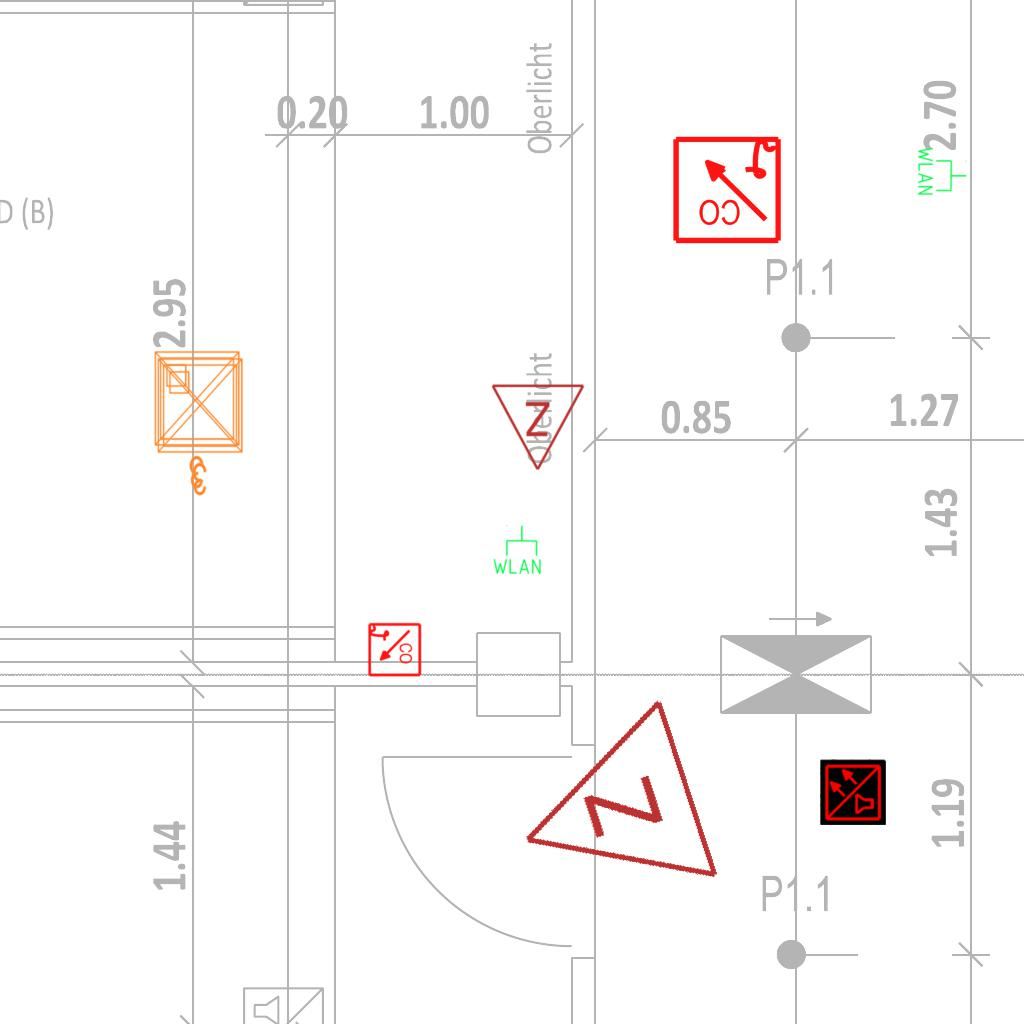Einbaudownlights_LED_Konferenzraeume: (147, 344, 251, 494), (150, 351, 254, 501)
OKW_Multisensormelder_(Kombination_optischer_Rauch-Kahlenmonoxid_Waerme-Melder): (820, 759, 886, 825)
ROA_Rauchmelder_optisch_mit_Signalgeber_(Sockelsirene): (670, 132, 783, 245), (366, 622, 422, 678)
WLAN: (916, 145, 968, 197), (491, 524, 543, 576)
Zimmersignalleuchte: (483, 691, 735, 941), (490, 377, 588, 477)
